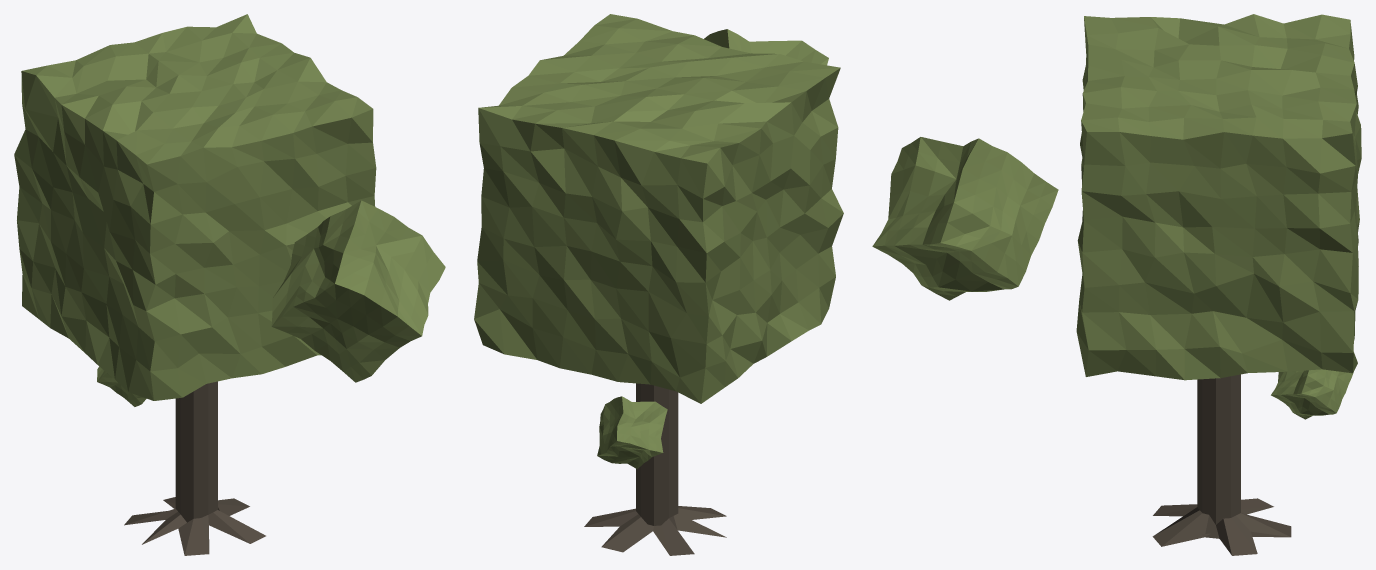
The model's file is tree.fbx.
3 renders of one model, left to right at view 1: azimuth 30°, elevation 25°; view 2: azimuth 150°, elevation 25°; view 3: azimuth 270°, elevation 25°, orthographic. The views are drawn at different scales.
Visible parts, largest first — view 1: Cube, Cube.001, Cylinder.001, Cube.002; view 2: Cube, Cylinder.001, Cube.002, Cube.001; view 3: Cube, Cube.001, Cylinder.001, Cube.002.
Boxes of the visible parts, <box> form: Cube: <box>14,14,376,400</box>; Cube.001: <box>271,200,445,382</box>; Cylinder.001: <box>124,381,265,555</box>; Cube.002: <box>97,366,146,406</box>; Cube: <box>474,14,843,403</box>; Cylinder.001: <box>584,383,726,555</box>; Cube.002: <box>597,396,667,469</box>; Cube.001: <box>704,29,828,65</box>; Cube: <box>1076,14,1361,380</box>; Cube.001: <box>872,137,1058,300</box>; Cylinder.001: <box>1152,374,1291,555</box>; Cube.002: <box>1271,369,1353,419</box>.
Bounding box in the file's own units: 6.98 × 12.1 × 11.75.
